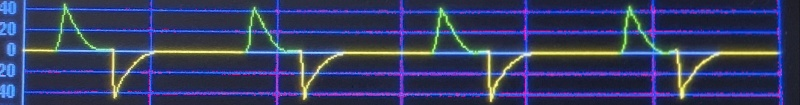normal_flow: (24, 0, 777, 105)
